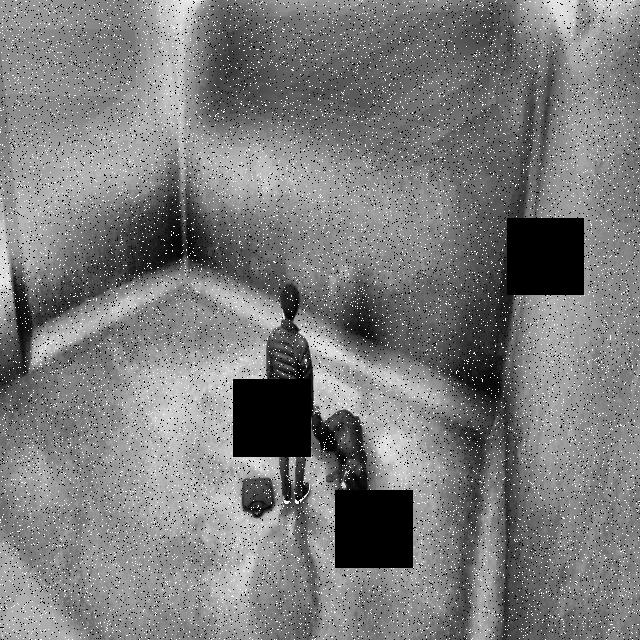assult: (266, 274, 370, 505)
